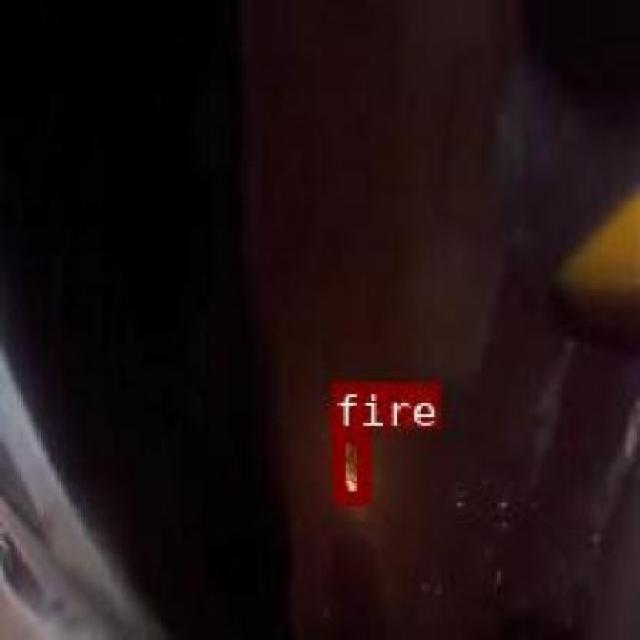Fire: (330, 426, 367, 502)
